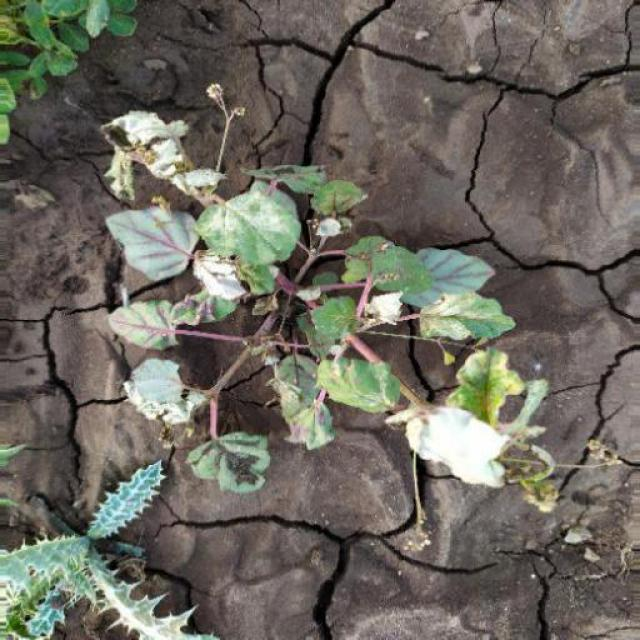weed: (105, 105, 564, 504), (1, 461, 225, 640)
